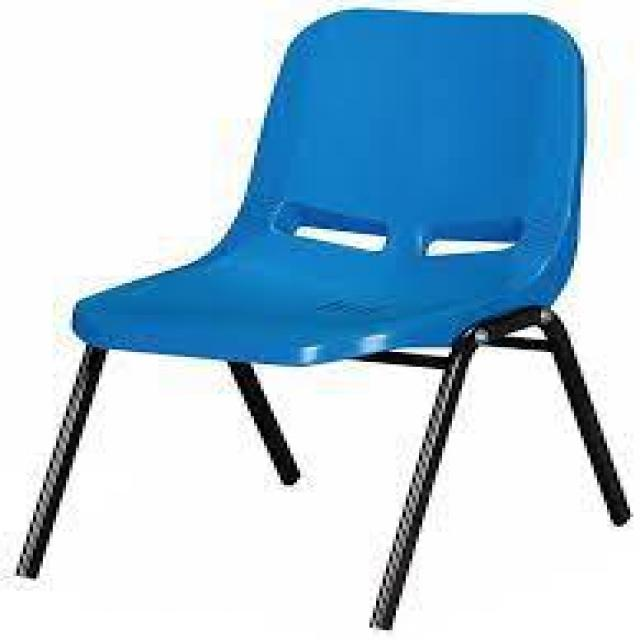chair: (15, 11, 625, 631)
